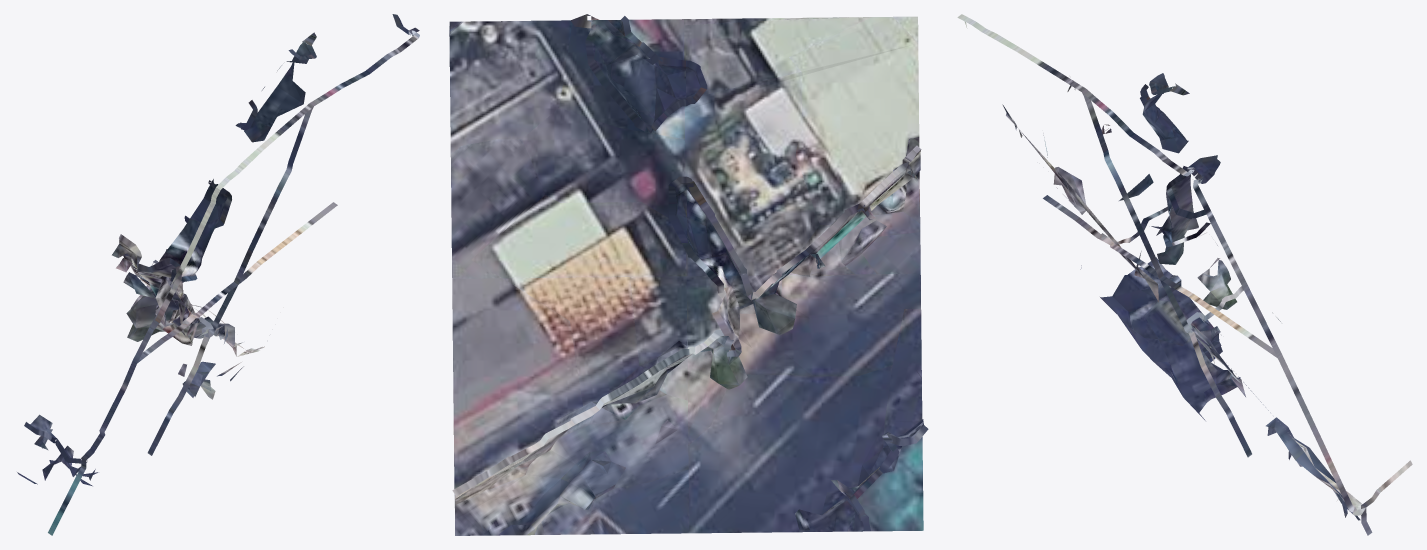
3 views of the same model, side by side, from view 1: azimuth 30°, elevation 25°; view 2: azimuth 150°, elevation 25°; view 3: azimuth 270°, elevation 25° (orthographic). The views are drawn at different scales.
Size of the model in its own units: 39.26 by 37.58 by 35.31.
Materials: 1 (1 with a texture image).
